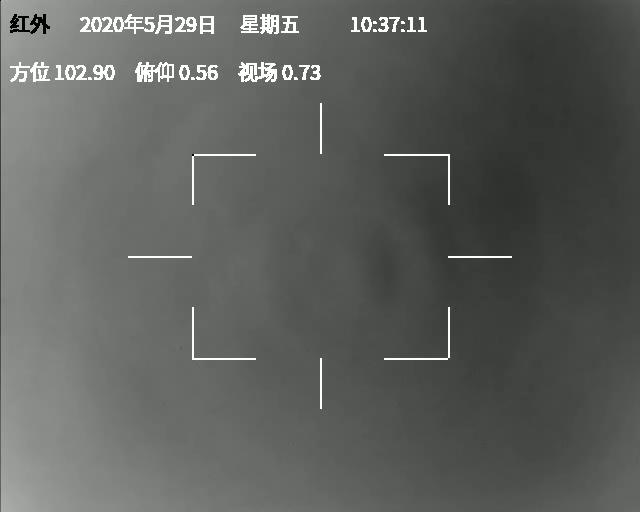uav: (368, 248, 375, 254)
